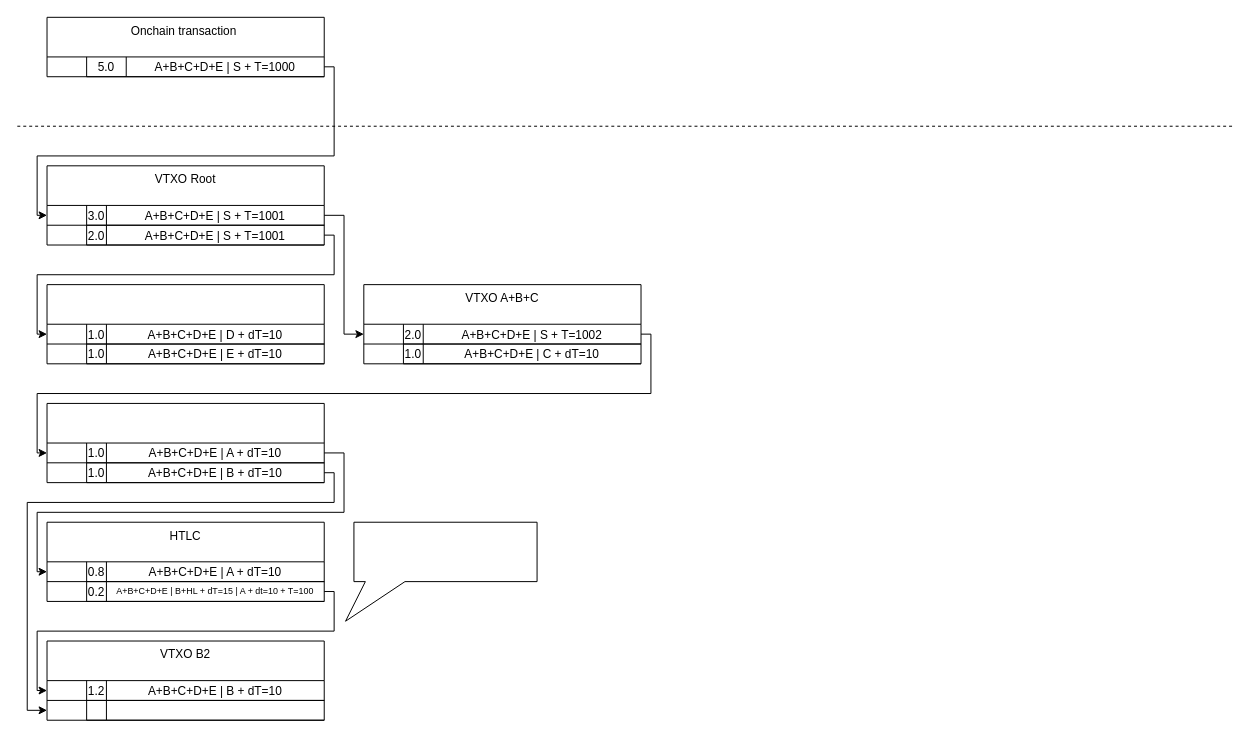
Some shapes in this 1253 by 738 pixel diagram are drawn without their labels. The box of each missing label's shape, as (x1, y1, x2, y2) in pixels:
B presents HL and hence is awarded 0.2 BTC: (353, 521, 537, 621)
VTXO A+B: (46, 402, 324, 483)
VTXO D+E: (46, 284, 324, 364)
